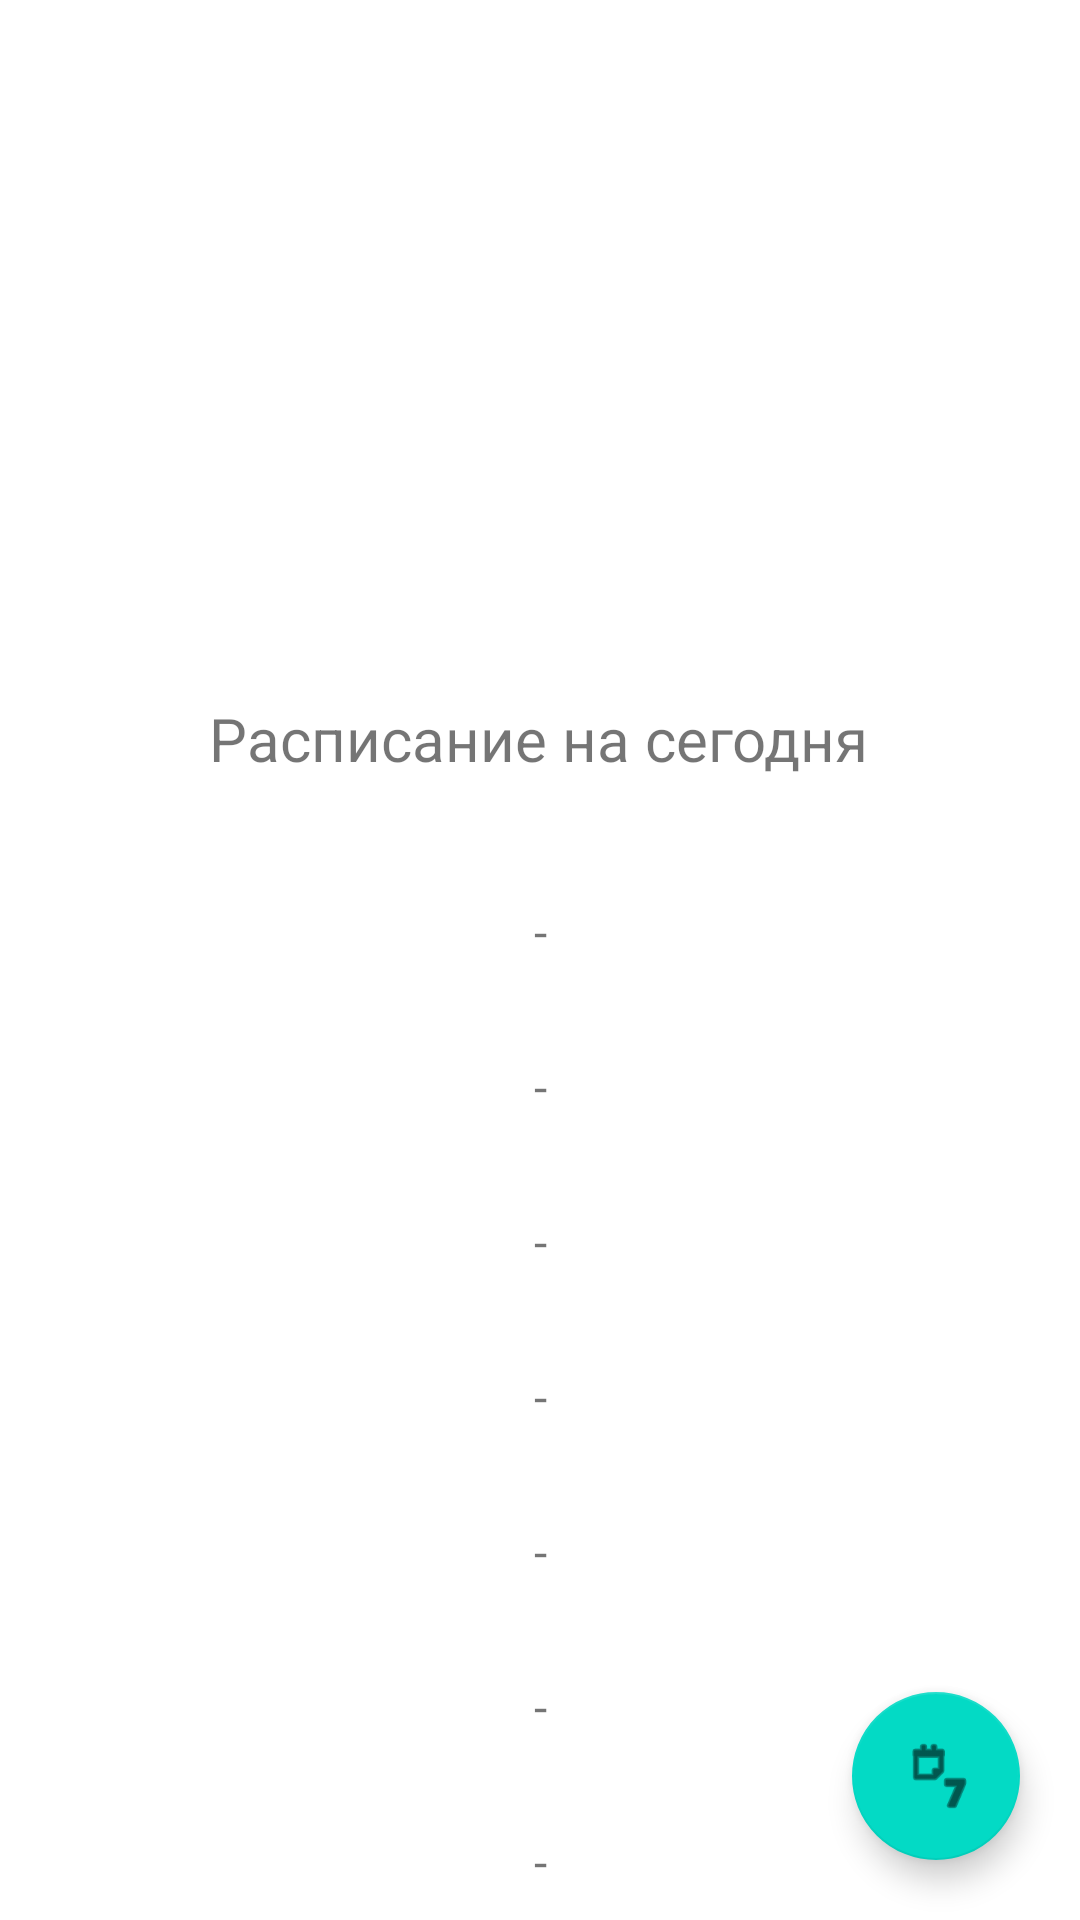

Locate icon controls on the screen. Image size 1080 x 1920, boxes as (x1, y1, x2, y2).
week: (852, 1692, 1020, 1860)
